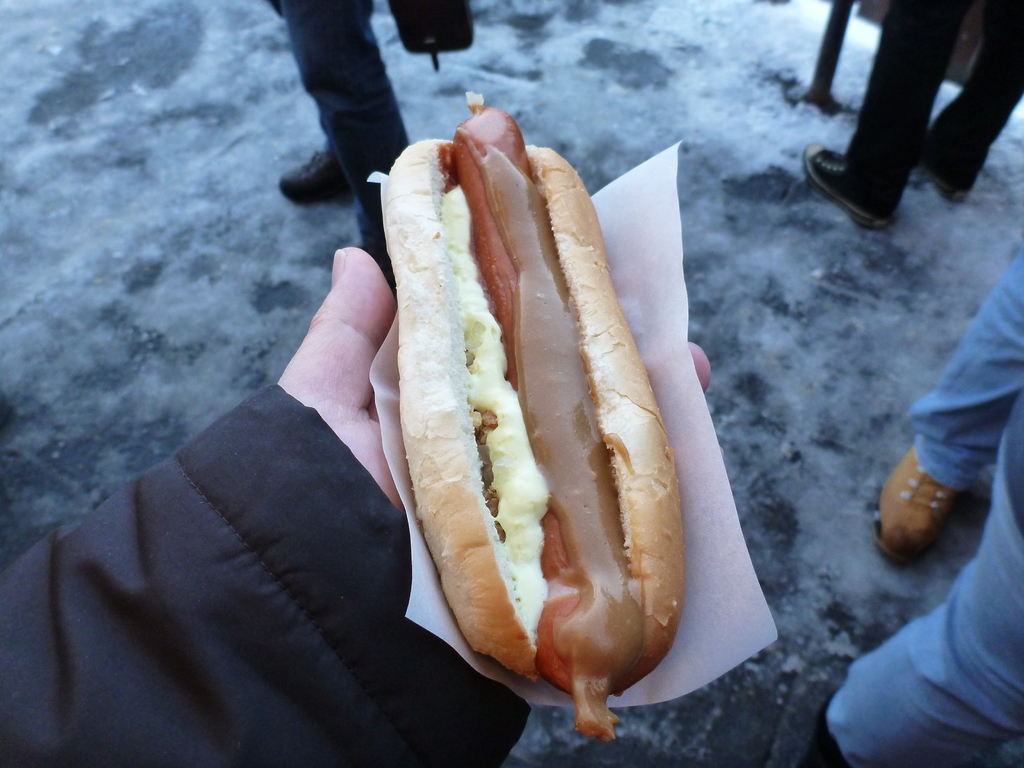hot_dog: (378, 97, 684, 747)
